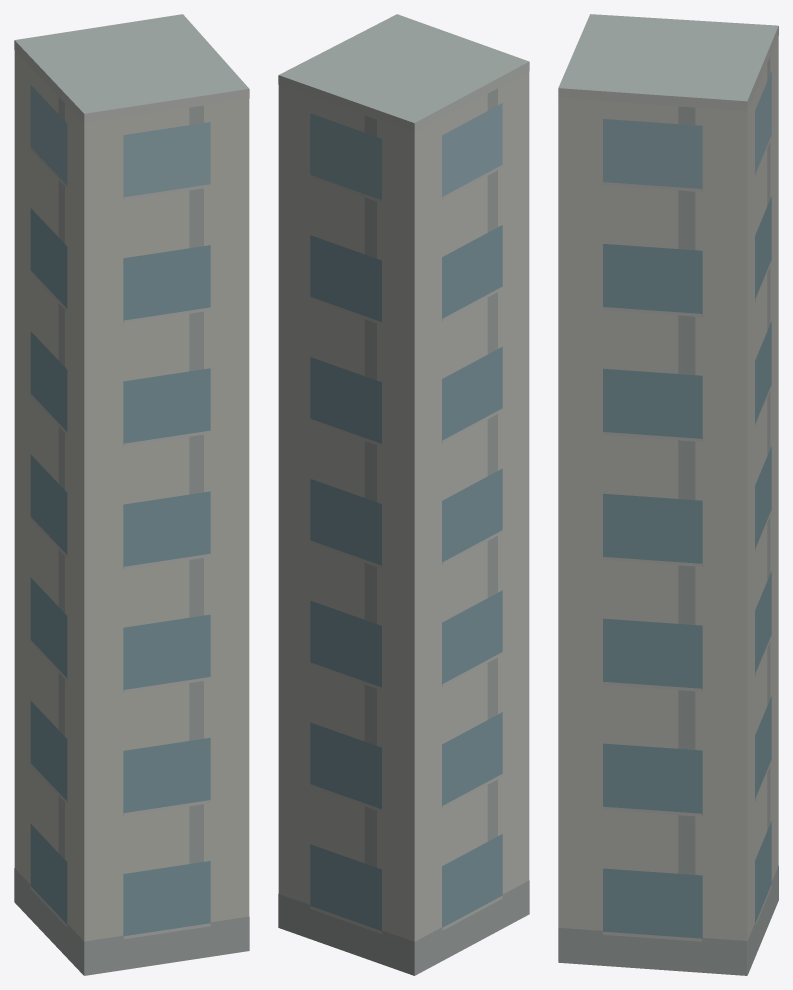
File: survey-upis-32646586.glb
The picture shows the model from 3 angles, left to right: view 1: azimuth 30°, elevation 25°; view 2: azimuth 150°, elevation 25°; view 3: azimuth 270°, elevation 25°; orthographic projection. The views are drawn at different scales.
Visible parts, largest first — view 1: survey-upis-32646586.tmp; view 2: survey-upis-32646586.tmp; view 3: survey-upis-32646586.tmp.
Boxes of the visible parts, x1,y1,x2,y2 form: survey-upis-32646586.tmp: [14, 14, 249, 975]; survey-upis-32646586.tmp: [278, 14, 529, 975]; survey-upis-32646586.tmp: [558, 14, 778, 975].
Size of the model in its own units: 4.58 by 21.35 by 4.89.
